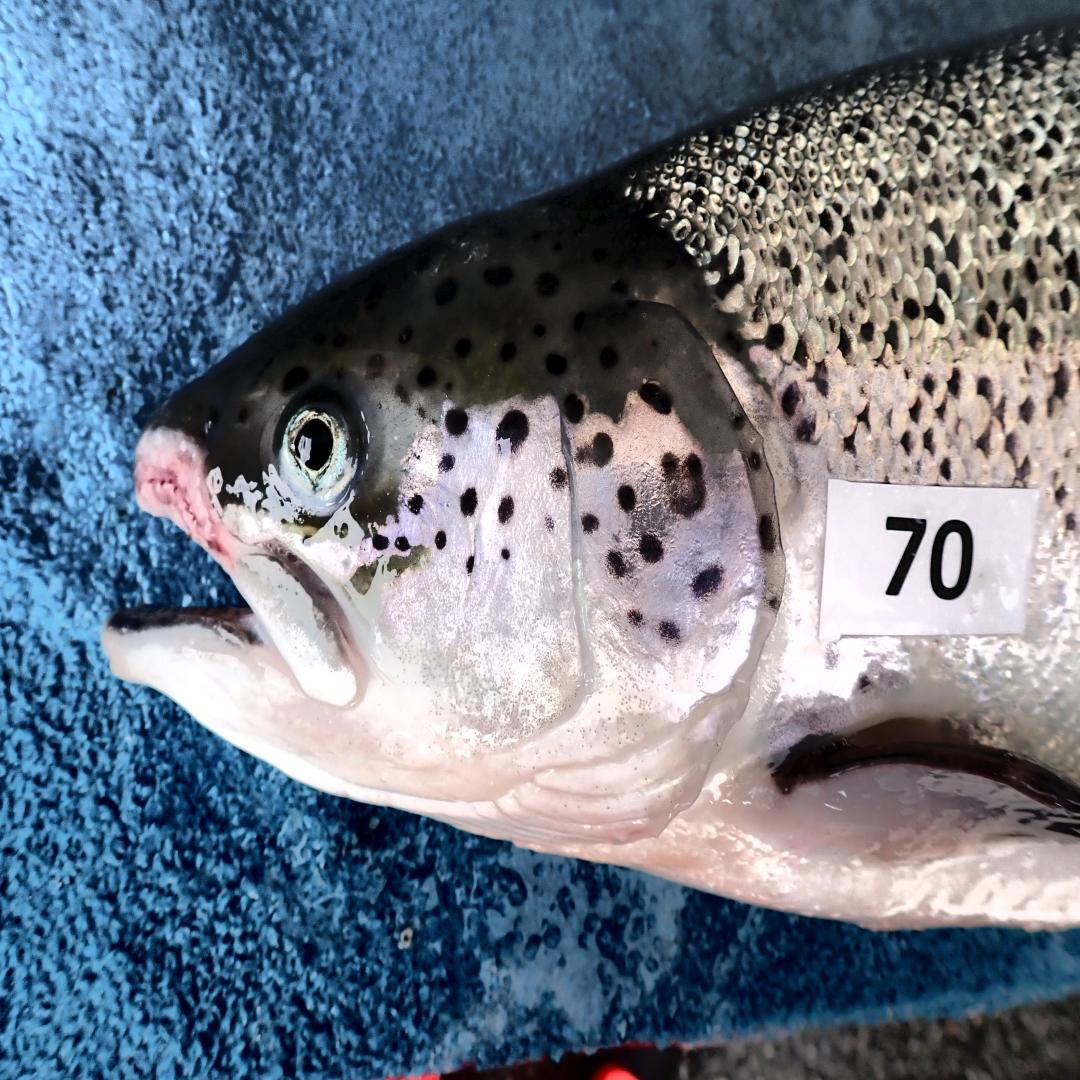spot: (660, 451, 708, 517), (495, 409, 530, 457), (576, 432, 614, 467), (692, 564, 726, 598), (639, 380, 671, 413), (639, 534, 664, 562), (757, 515, 776, 551), (563, 394, 584, 425), (445, 408, 468, 436), (497, 494, 515, 526), (658, 619, 681, 644), (460, 488, 478, 517), (617, 486, 637, 512), (608, 551, 626, 577), (550, 469, 567, 492), (407, 495, 424, 515), (439, 453, 456, 472), (434, 529, 447, 552), (582, 515, 599, 532), (629, 611, 644, 629), (747, 451, 761, 470), (372, 534, 388, 550), (731, 412, 744, 431), (394, 537, 409, 551), (766, 595, 779, 609), (467, 554, 475, 574), (545, 518, 555, 533), (501, 549, 511, 559)
